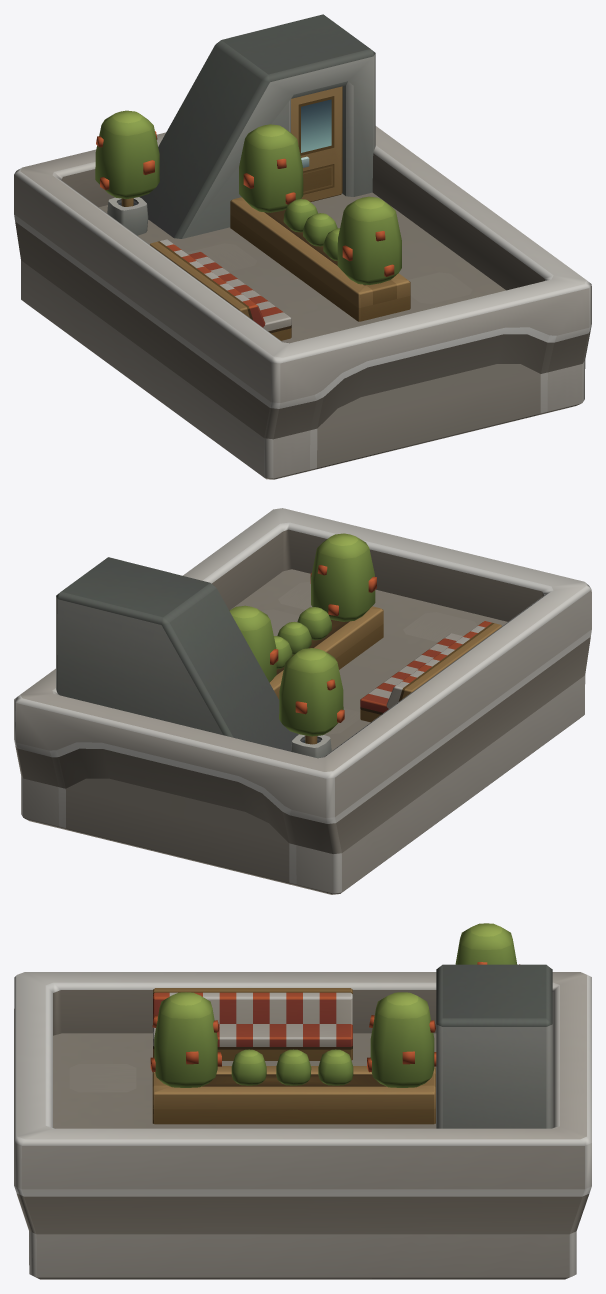
The model's file is appartment_type1_roof_type1_x3_deco.fbx.
3 renders of one model, top to bottom at view 1: azimuth 30°, elevation 25°; view 2: azimuth 150°, elevation 25°; view 3: azimuth 270°, elevation 25°, orthographic. The views are drawn at different scales.
Visible parts, largest first — view 1: appartment_type1_roof_type1_x3_deco, door_wood_rooftop_doorway1; view 2: appartment_type1_roof_type1_x3_deco; view 3: appartment_type1_roof_type1_x3_deco.
Boxes of the visible parts, x1,y1,x2,y2 form: appartment_type1_roof_type1_x3_deco: [14, 14, 591, 479]; door_wood_rooftop_doorway1: [291, 86, 342, 201]; appartment_type1_roof_type1_x3_deco: [14, 508, 591, 894]; appartment_type1_roof_type1_x3_deco: [14, 923, 591, 1279].
Size of the model in its own units: 610 by 410 by 867.
